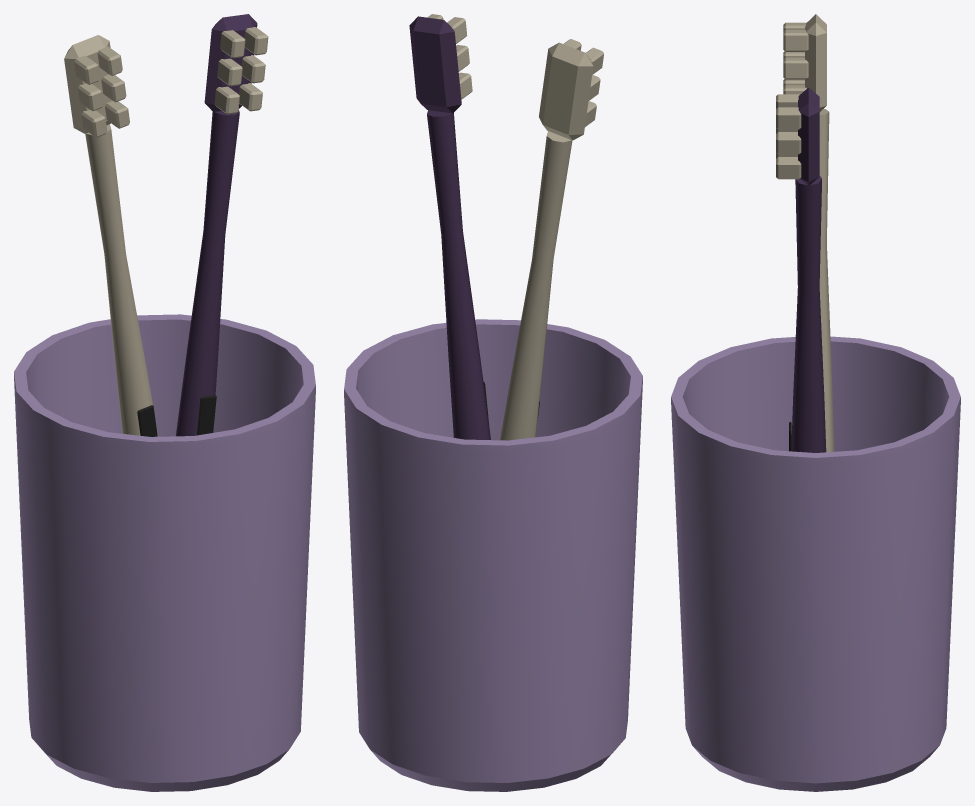
File: toothbrush-holder-mint-51739c58d0b9.glb
3 views of the same model, side by side, from view 1: azimuth 30°, elevation 25°; view 2: azimuth 150°, elevation 25°; view 3: azimuth 270°, elevation 25° (orthographic). The views are drawn at different scales.
Parts seen in each view (by area): view 1: accent-lilac, plastic-light, accent-purple, rubber; view 2: accent-lilac, plastic-light, accent-purple; view 3: accent-lilac, accent-purple, plastic-light.
Part boxes in pixels (box(x1,y1,x2,y2)): accent-lilac: box(14, 314, 315, 791); plastic-light: box(64, 27, 268, 436); accent-purple: box(176, 14, 257, 436); rubber: box(137, 395, 216, 436); accent-lilac: box(344, 319, 642, 791); plastic-light: box(427, 14, 603, 440); accent-purple: box(409, 16, 490, 439); accent-lilac: box(671, 336, 960, 791); accent-purple: box(791, 87, 826, 452); plastic-light: box(776, 14, 834, 452).
Bounding box in the file's own units: 0.08 × 0.2096 × 0.08.
